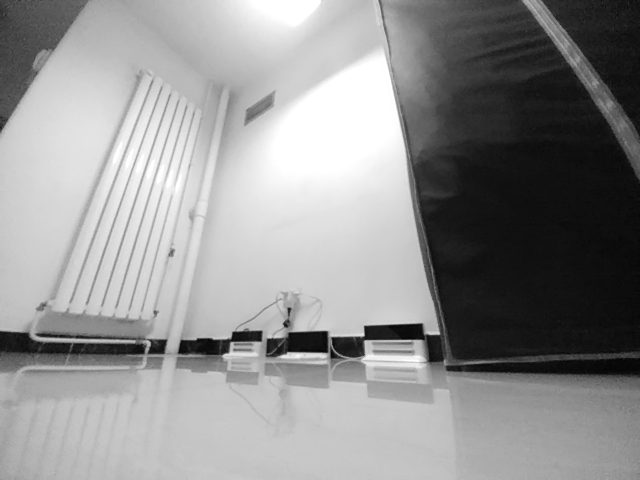Ruby: (360, 322, 427, 366), (220, 331, 269, 365)
TanosV: (277, 330, 330, 365), (192, 337, 216, 358)
wire: (327, 338, 362, 362)
